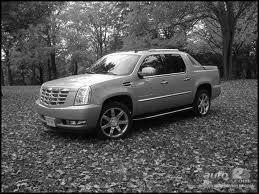car: (17, 39, 237, 156)
